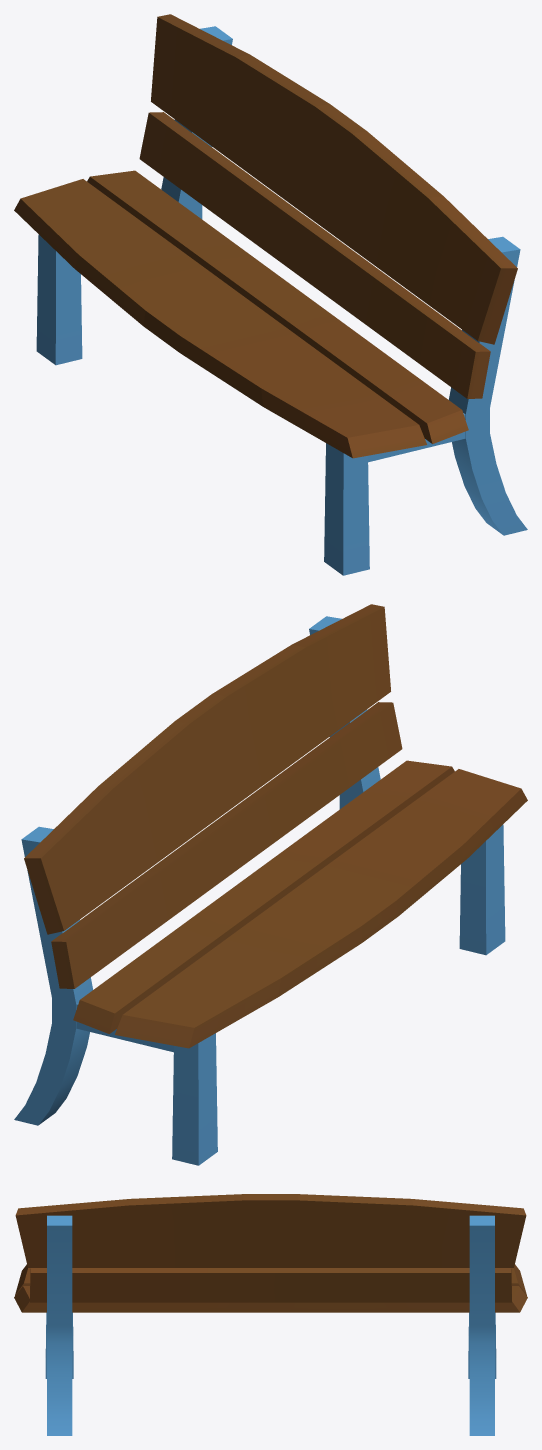
The model's file is Bench_3_B.fbx.
3 renders of one model, top to bottom at view 1: azimuth 30°, elevation 25°; view 2: azimuth 150°, elevation 25°; view 3: azimuth 270°, elevation 25°, orthographic. The views are drawn at different scales.
Parts seen in each view (by area): view 1: Bench_3_B; view 2: Bench_3_B; view 3: Bench_3_B.
Part boxes in pixels (bbox=[...]): Bench_3_B: bbox=[14, 14, 527, 575]; Bench_3_B: bbox=[14, 604, 527, 1165]; Bench_3_B: bbox=[14, 1194, 527, 1435].
Bounding box in the file's own units: 61.52 × 84.79 × 174.
